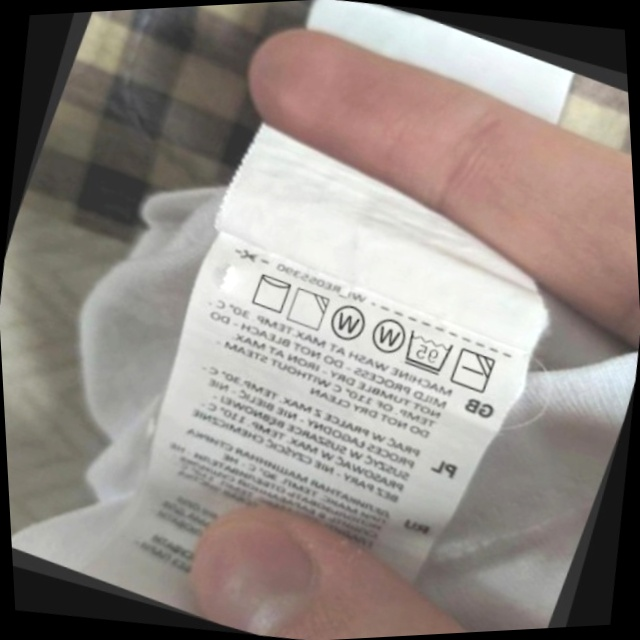95C: (394, 321, 461, 383)
dry_flat_in_shade: (444, 340, 503, 401)
line_dry: (242, 264, 300, 321)
shade_dry: (279, 280, 337, 338)
wet_clean: (360, 306, 415, 363), (320, 295, 375, 352)
